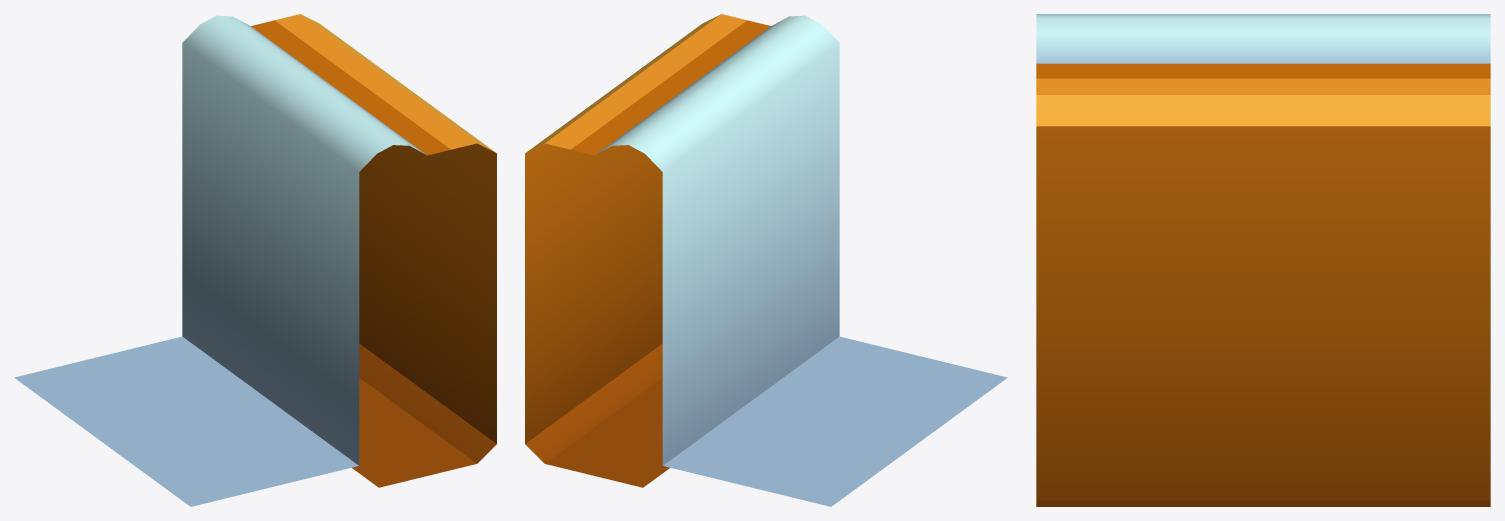
File: pool_5.fbx
The picture shows the model from 3 angles, left to right: view 1: azimuth 30°, elevation 25°; view 2: azimuth 150°, elevation 25°; view 3: azimuth 270°, elevation 25°; orthographic projection. The views are drawn at different scales.
Visible parts, largest first — view 1: pool_5; view 2: pool_5; view 3: pool_5.
Boxes of the visible parts, box(x1,y1,x2,y2) form: pool_5: box(14, 14, 496, 506); pool_5: box(525, 14, 1007, 506); pool_5: box(1036, 14, 1490, 506).
Bounding box in the file's own units: 2 × 2.12 × 2.
